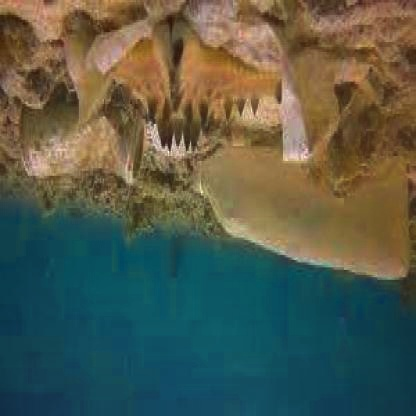can: (14, 92, 154, 193)
pbottle: (191, 141, 416, 302)
